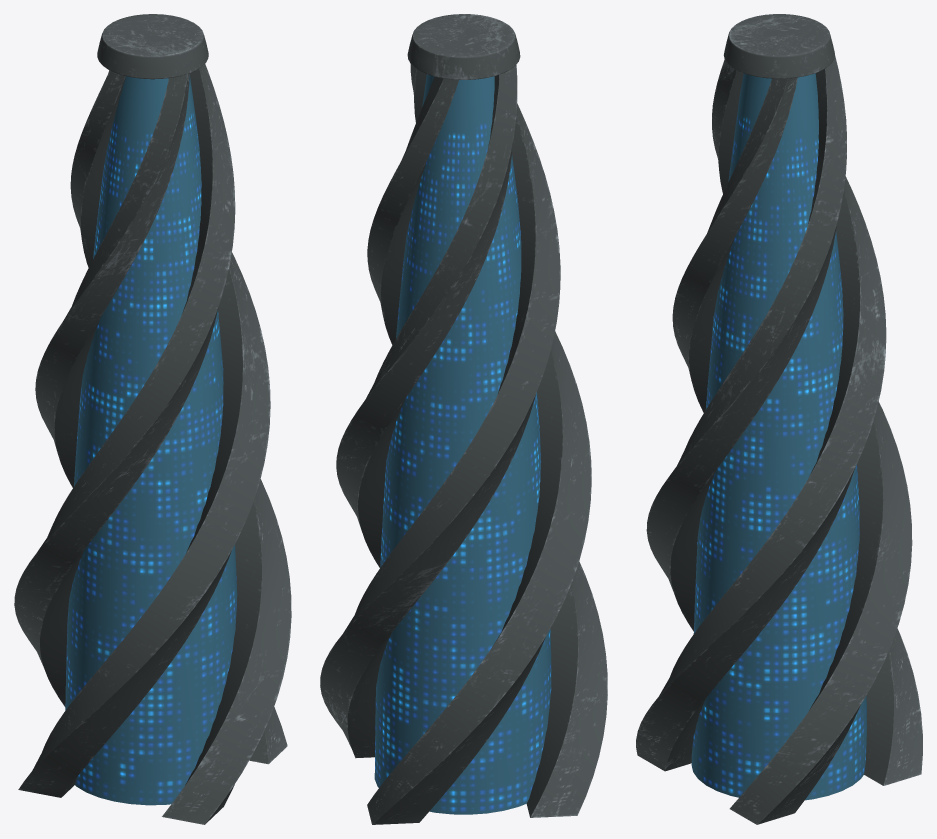
The picture shows the model from 3 angles, left to right: view 1: azimuth 30°, elevation 25°; view 2: azimuth 150°, elevation 25°; view 3: azimuth 270°, elevation 25°; orthographic projection.
Visible parts, largest first — view 1: Sci_fi_building; view 2: Sci_fi_building; view 3: Sci_fi_building.
Part boxes in pixels (bbox=[...]): Sci_fi_building: bbox=[14, 14, 291, 824]; Sci_fi_building: bbox=[320, 14, 607, 824]; Sci_fi_building: bbox=[636, 14, 922, 824].
Bounding box in the file's own units: 73.32 × 206 × 73.32.
1 material, 1 textured.
